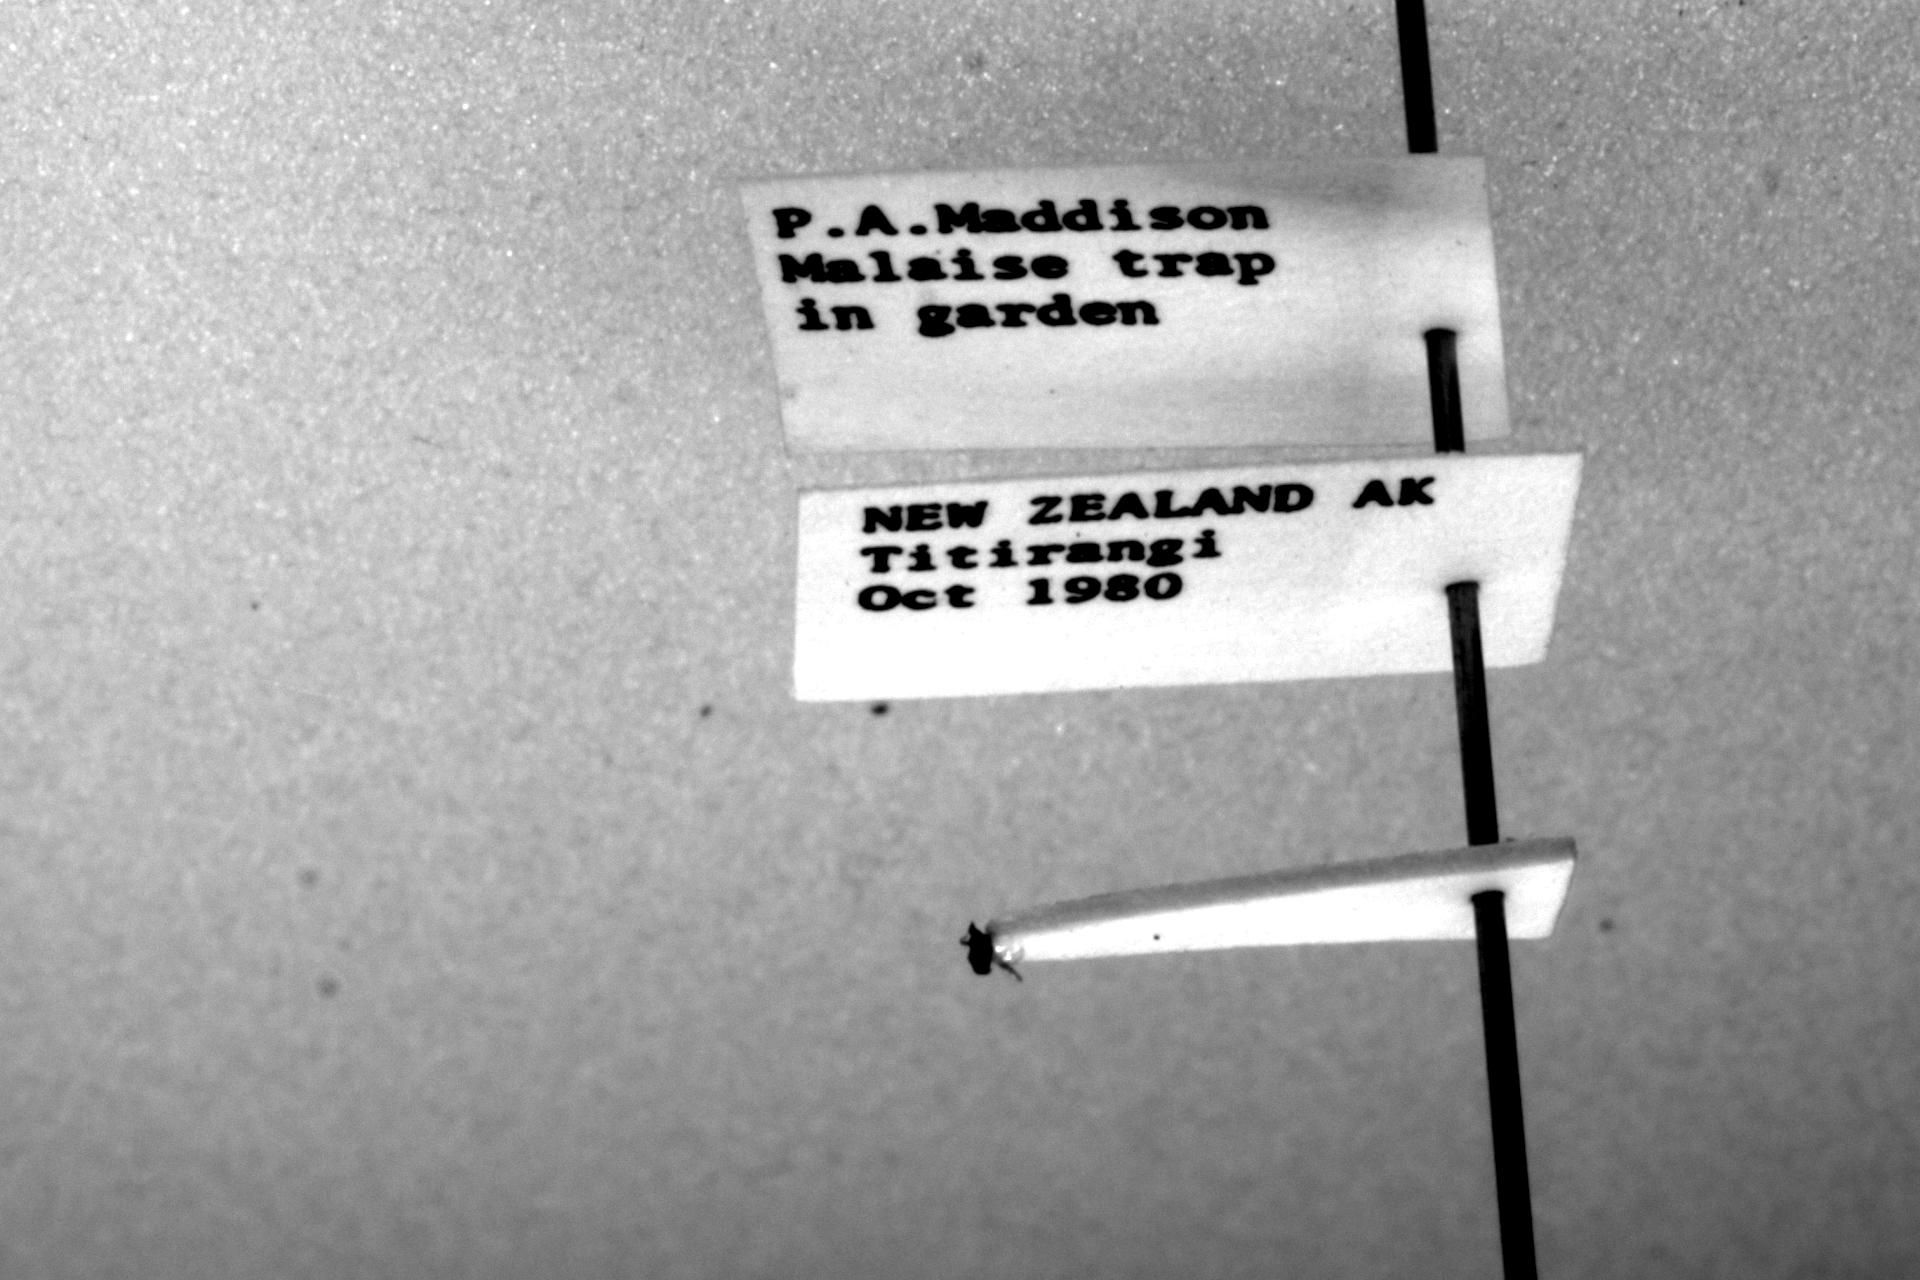typed_label: (743, 154, 1507, 454), (794, 454, 1583, 701)
